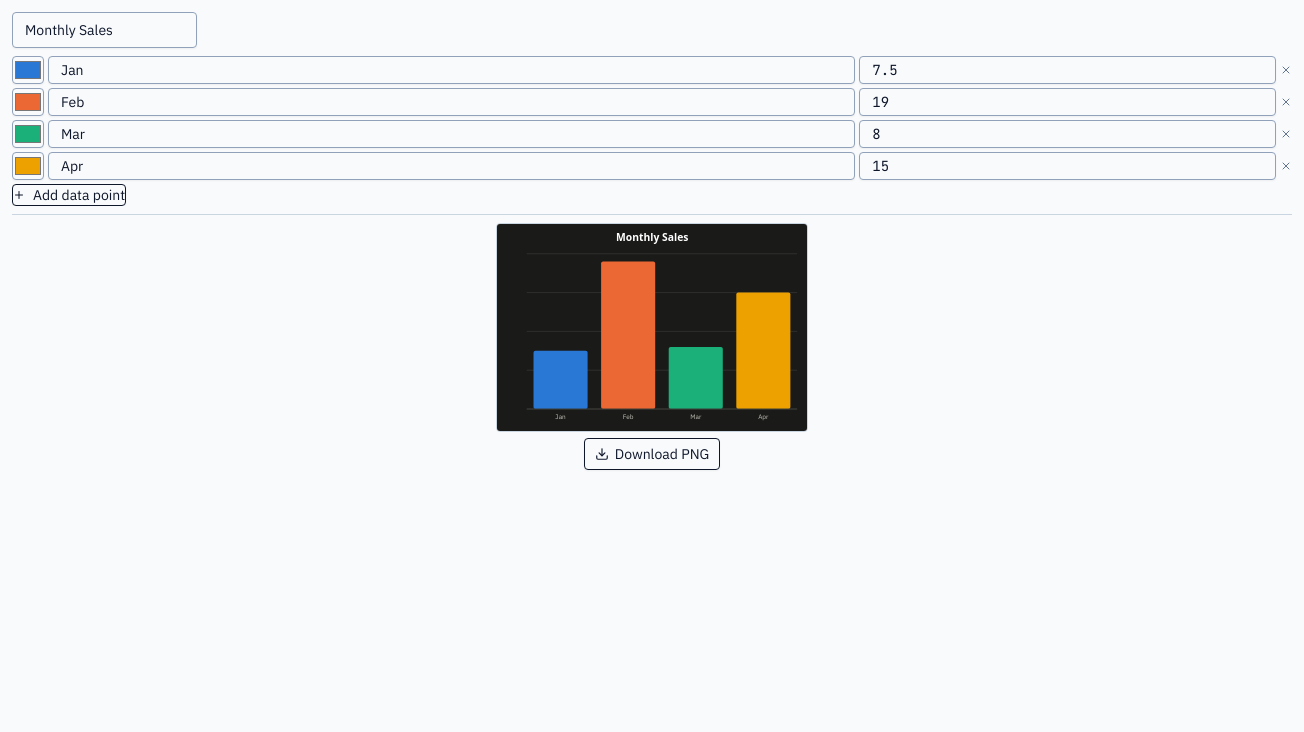
Scenario: ChartGeneratorWidget › adds and removes data points
This screenshot has width=1304, height=732.
Expected: the number of fields named "Data point 1 label" is 4, [48, 56, 855, 84]; [48, 88, 855, 116]; [48, 120, 855, 148]; [48, 152, 855, 180]
Click the button "Add data point" at (69, 195), box [12, 184, 126, 206]
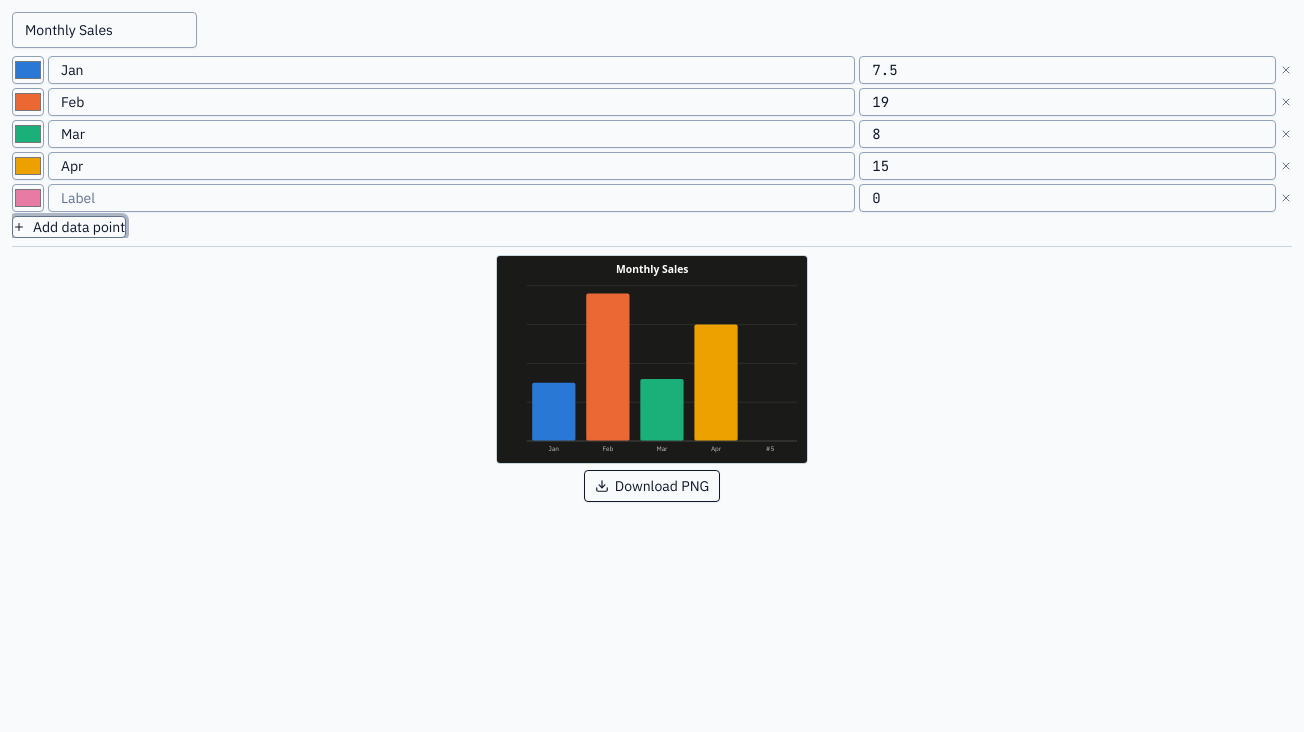
Now the number of fields named "Data point 1 label" is 5, box [48, 56, 855, 84]; [48, 88, 855, 116]; [48, 120, 855, 148]; [48, 152, 855, 180]; [48, 184, 855, 212]
Click the button named "Remove data point 1" at (1286, 70), box [1280, 64, 1292, 76]
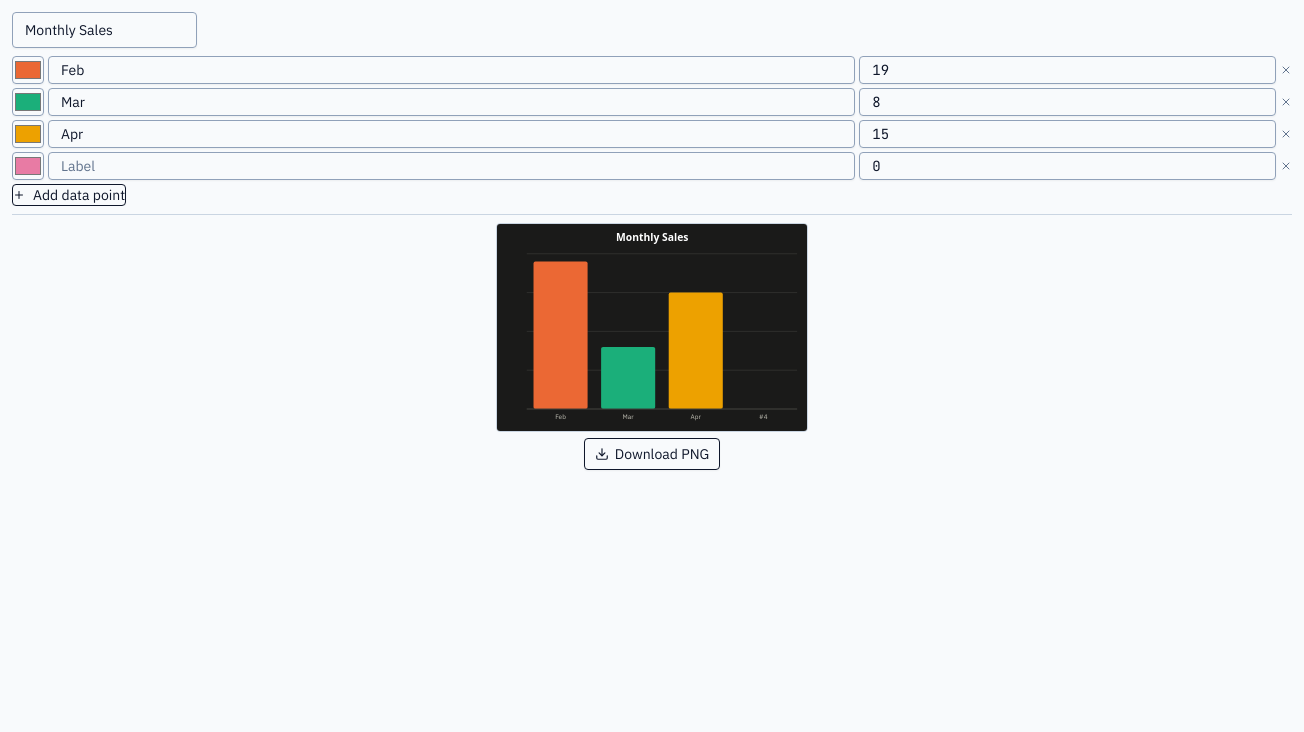
Now the number of fields named "Data point 1 label" is 4, box [48, 56, 855, 84]; [48, 88, 855, 116]; [48, 120, 855, 148]; [48, 152, 855, 180]
